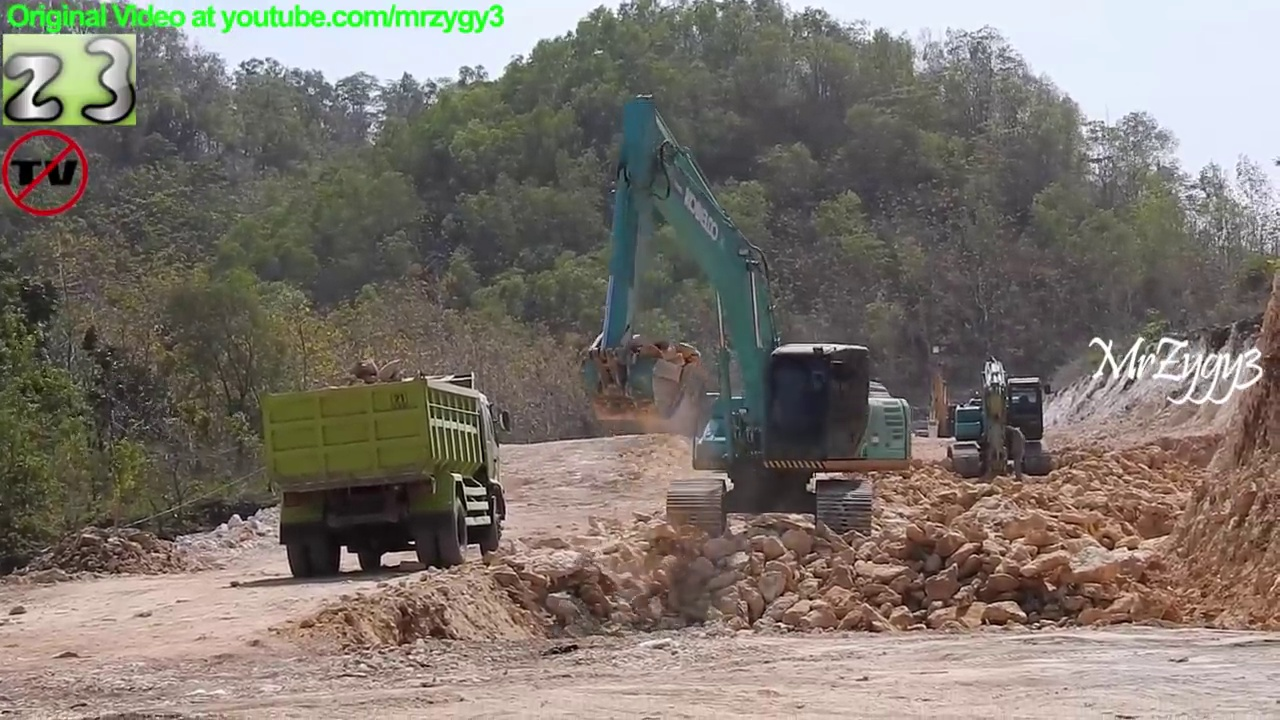excavator: (574, 89, 917, 548), (907, 341, 974, 448)
excavator breaker: (943, 352, 1060, 482)
truck: (257, 369, 516, 583)
worker: (999, 417, 1037, 485)
